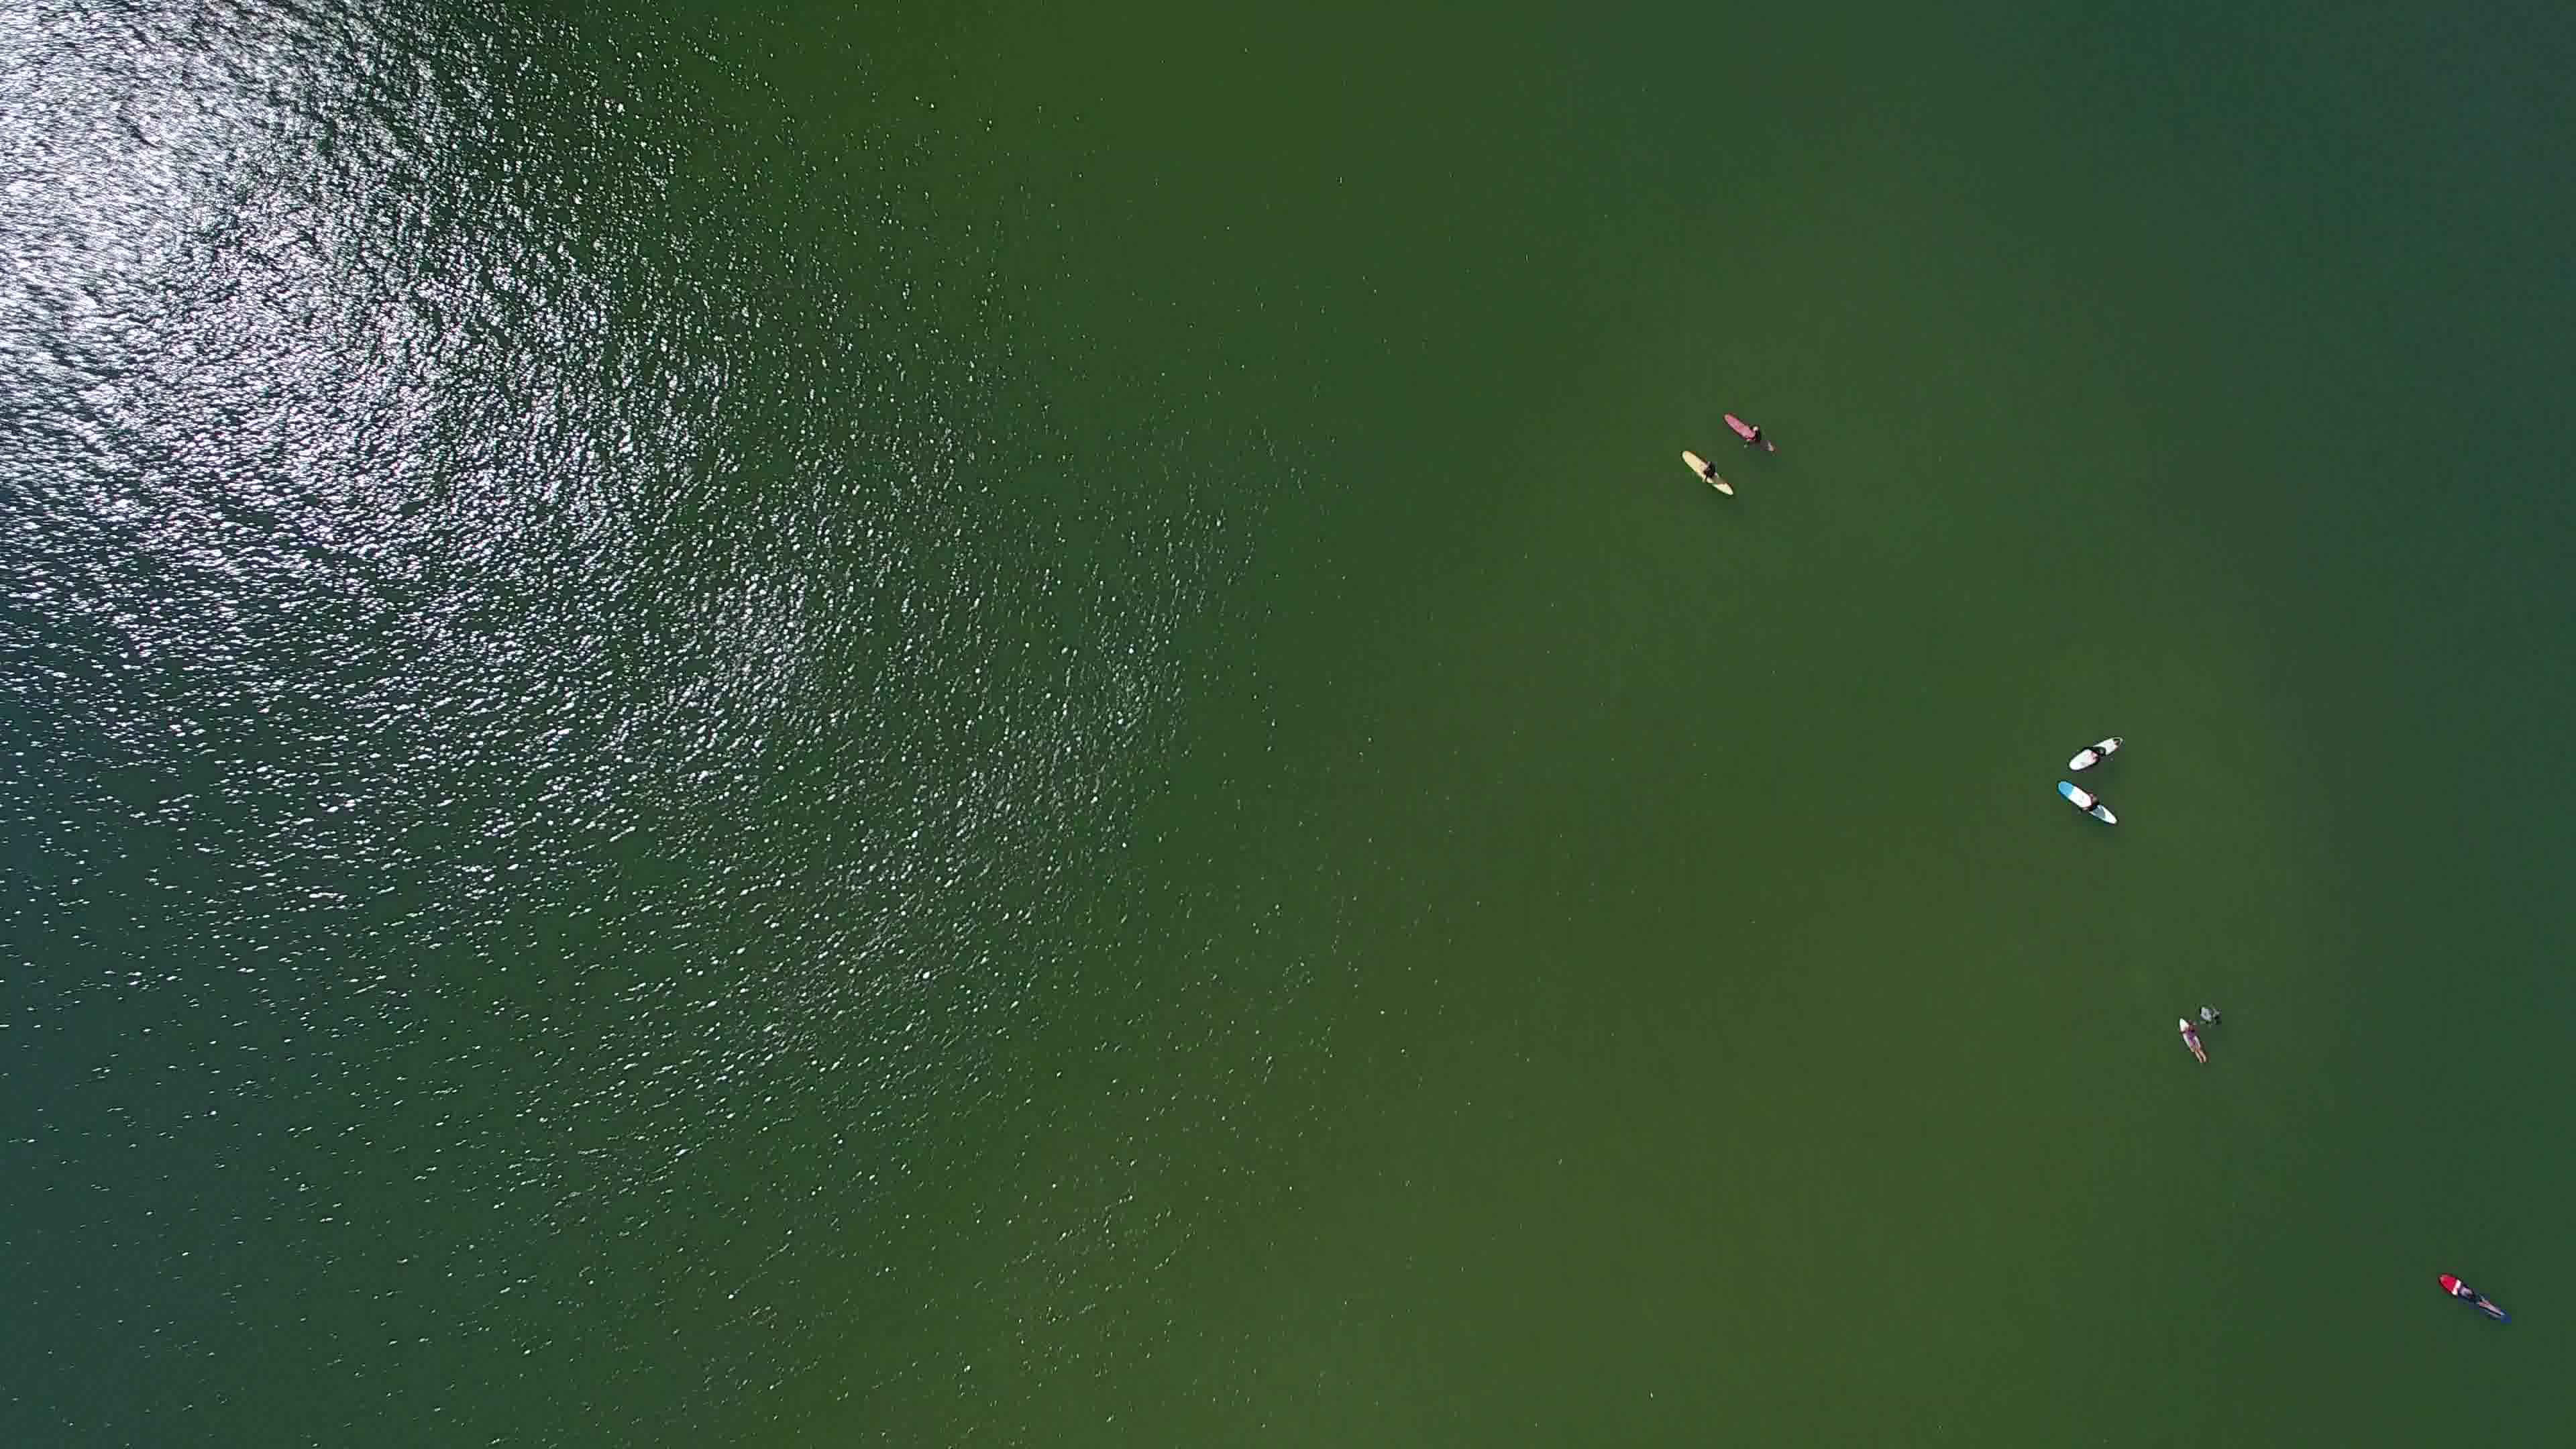surfer: (2047, 773, 2123, 832), (2440, 1274, 2512, 1334), (1716, 407, 1787, 458), (1674, 444, 1736, 502), (2063, 738, 2130, 775), (2176, 1016, 2215, 1072), (2203, 1003, 2233, 1035)
